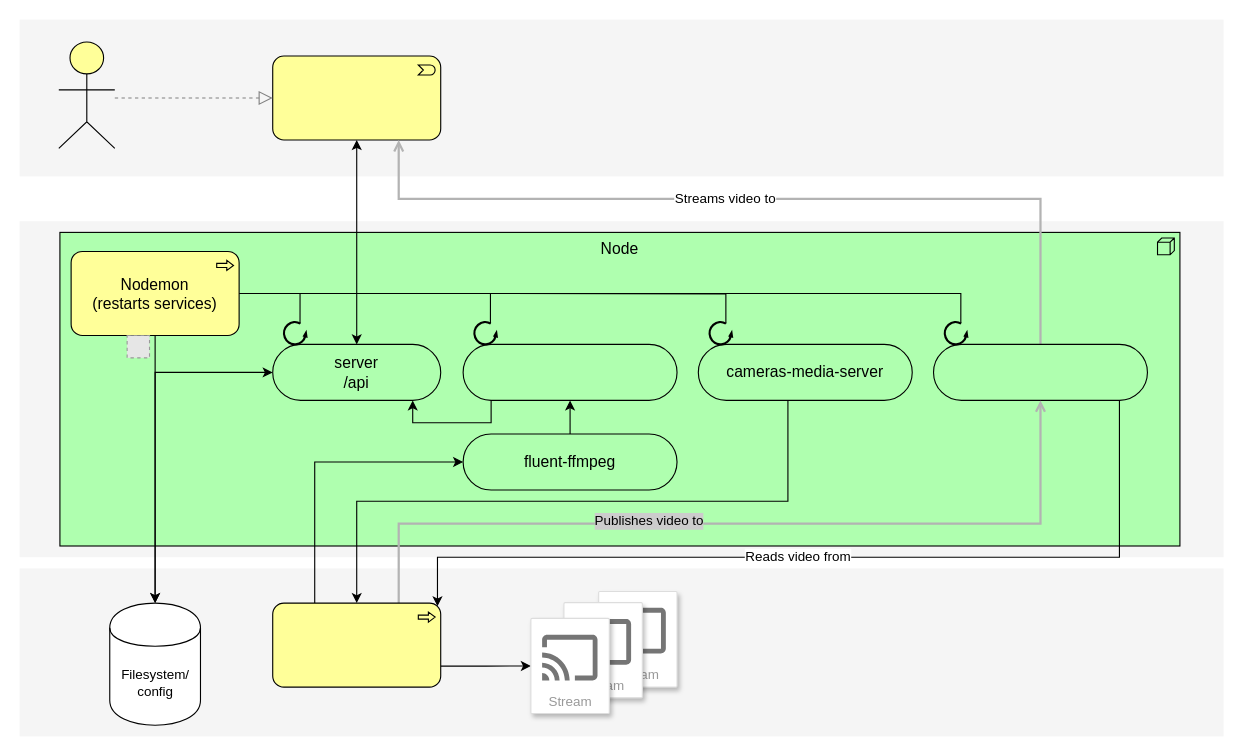
Image size: 1242x755. Some labels were removed from this diagram. Grey dashed boxes stand in for pictures. Each missing label, with the centre of its shape:
"ffmpeg" belongs at (x=356, y=644).
"motion-detection-server" belongs at (x=569, y=371).
"rtmp-media-server" belongs at (x=1039, y=371).
"Website" belongs at (x=356, y=97).
